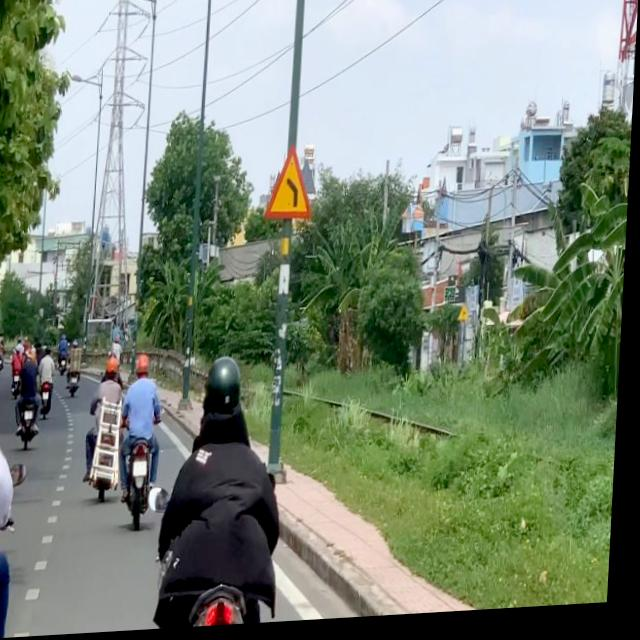cho ngoat nguy hiem vong ben trai: (265, 146, 318, 225)
